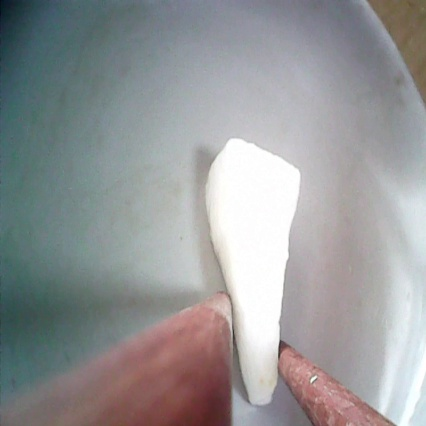white_chinese-yam: (199, 132, 315, 413)
